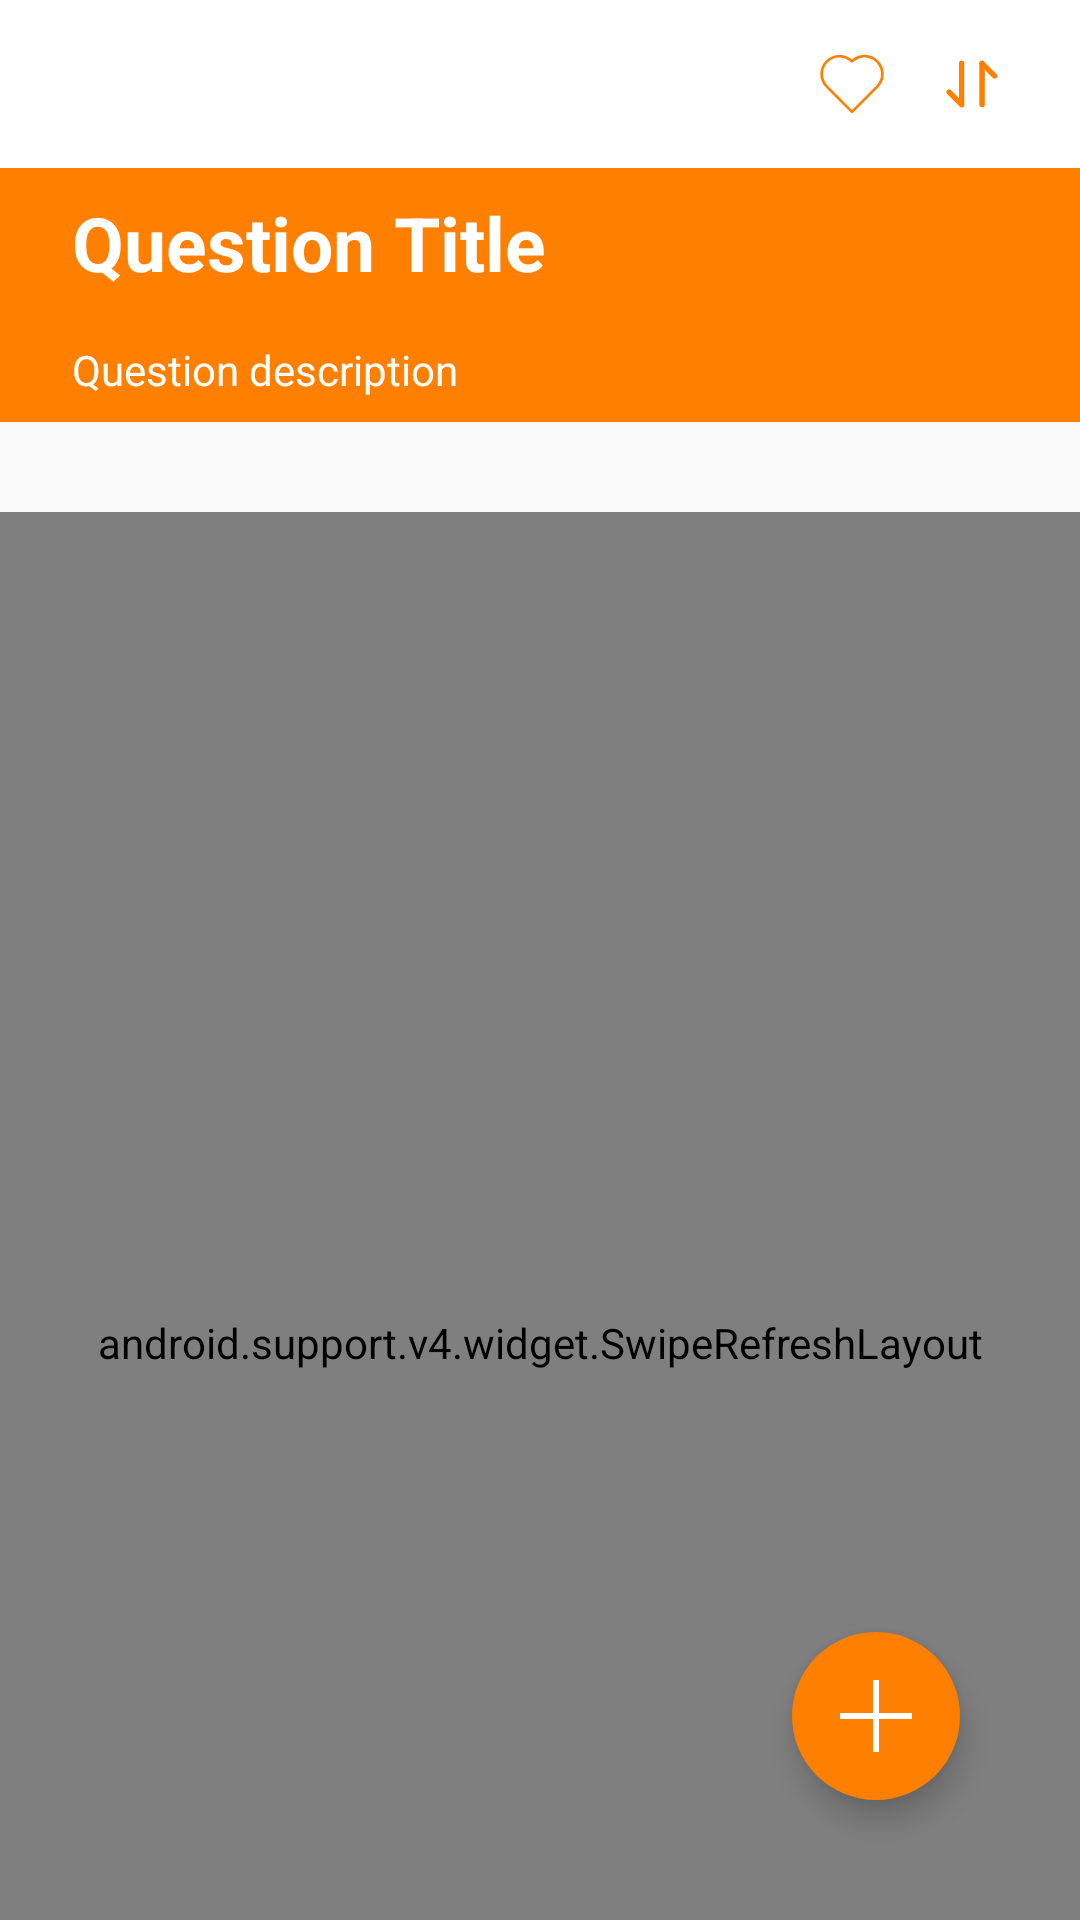

Icons on this 1080*1920 Android screen, each with its box as (x1, y1, x2, y2):
add: (792, 1632, 960, 1800)
favorite: (820, 54, 884, 114)
